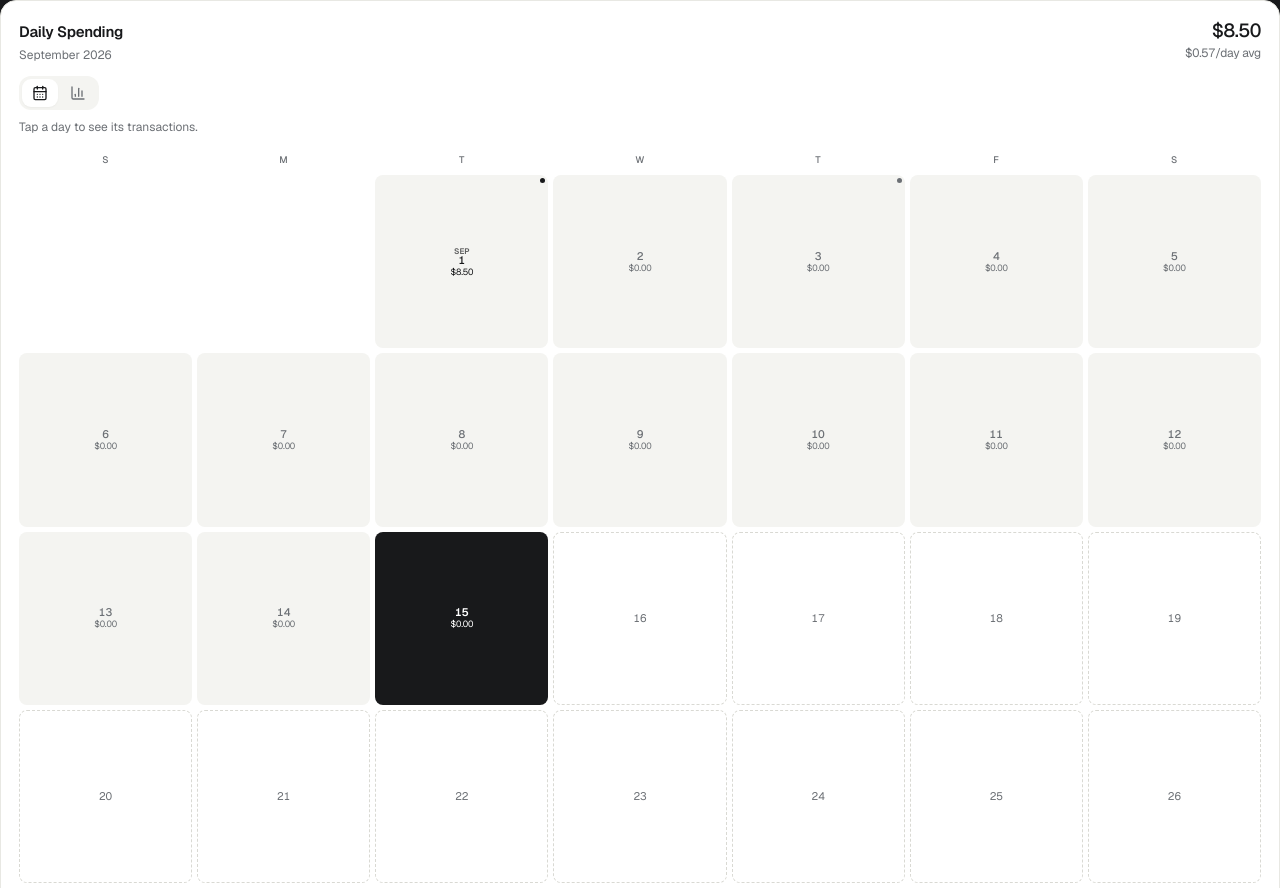
Scenario: income › lists the day's income under the spending in its sheet
Click the button with aria-label "1 Sep:".
click(462, 262)  # box [375,175,548,348]
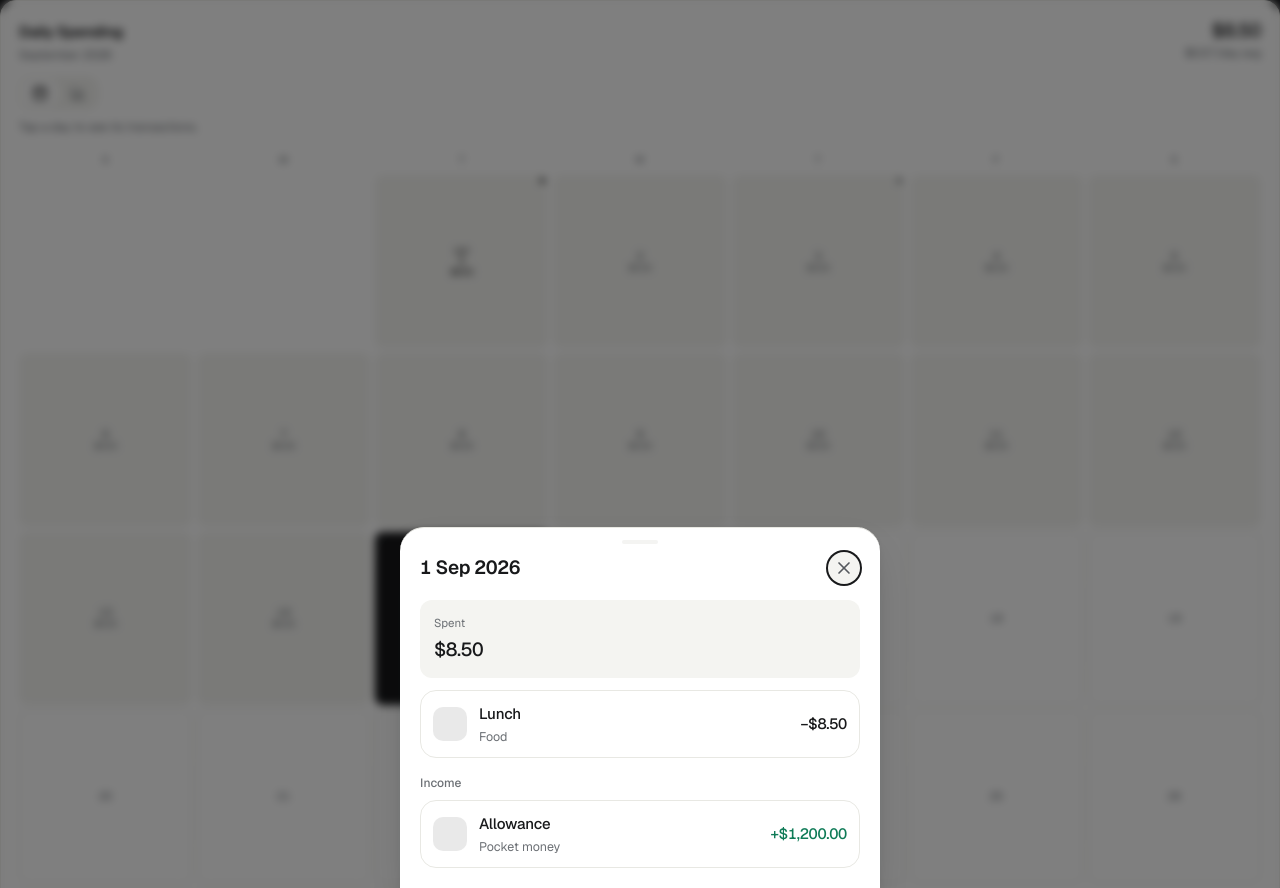
Expected: the text "Lunch" is shown, [479,703,521,726]
Expected: the text "Income" is shown, [420,775,461,791]
Expected: the text "Allowance" is shown, [479,813,560,836]
